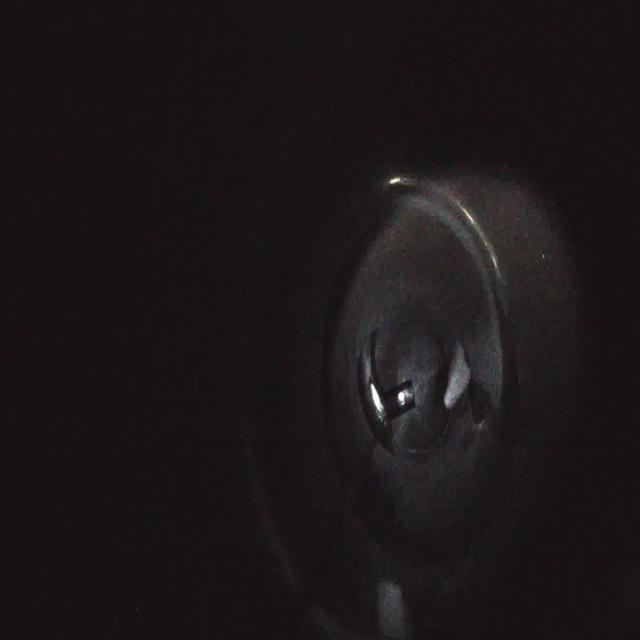impurity: (439, 337, 474, 413)
